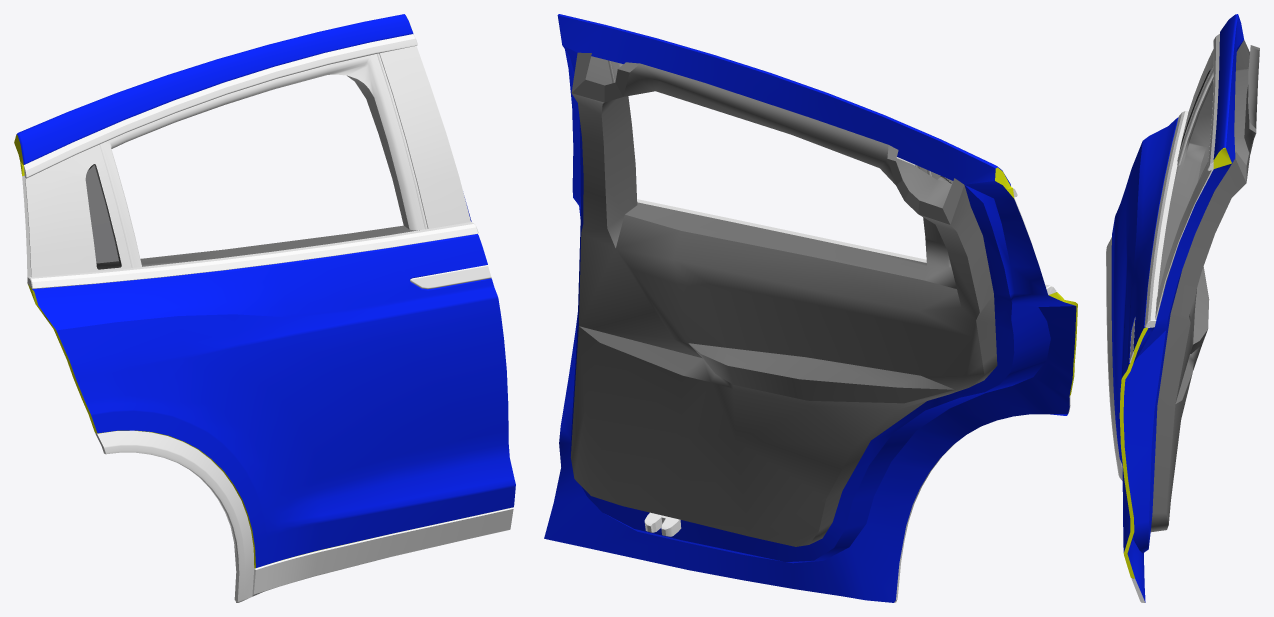
Rendered from Door_RR.obj.
3 views of the same model, side by side, from view 1: azimuth 30°, elevation 25°; view 2: azimuth 150°, elevation 25°; view 3: azimuth 270°, elevation 25° (orthographic). The views are drawn at different scales.
Parts seen in each view (by area): view 1: Door_RR; view 2: Door_RR; view 3: Door_RR.
Part boxes in pixels (bbox=[...]): Door_RR: bbox=[14, 14, 515, 602]; Door_RR: bbox=[544, 14, 1077, 602]; Door_RR: bbox=[1106, 14, 1259, 602].
Size of the model in its own units: 1.33 by 1.38 by 0.444.
